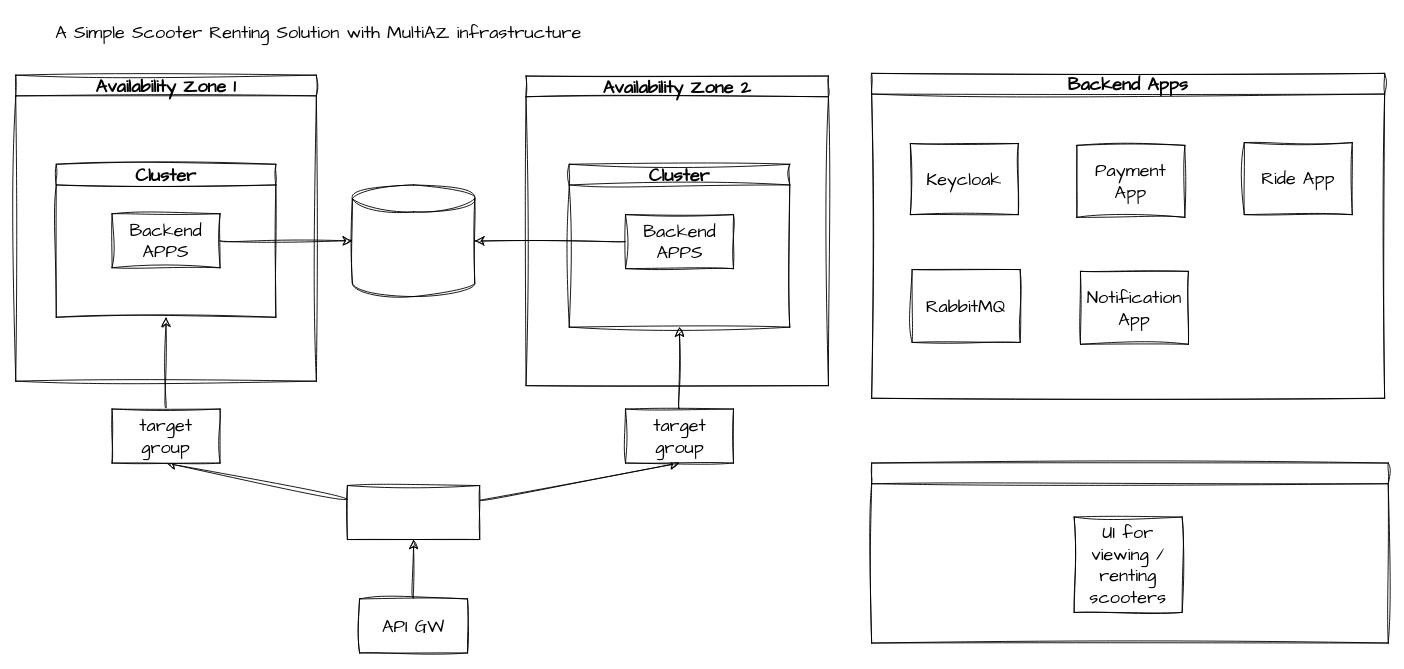
Some shapes in this 1404 by 669 pixel diagram are drawn without their labels. Each missing label, with the box of its shape:
DB (MultiAZ): (351, 184, 475, 297)
FrontEnd Apps: (871, 462, 1388, 643)
LoadBalancer: (346, 485, 480, 540)
